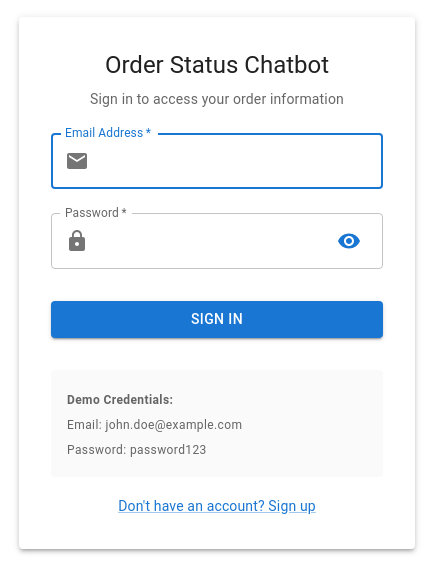
Test case: Login Component › shows loading state during login
The width and height of the screenshot is (435, 571).
Type "john.doe@example.com" into the field labelled "Email Address *" at [240, 161], box [97,133,383,189]
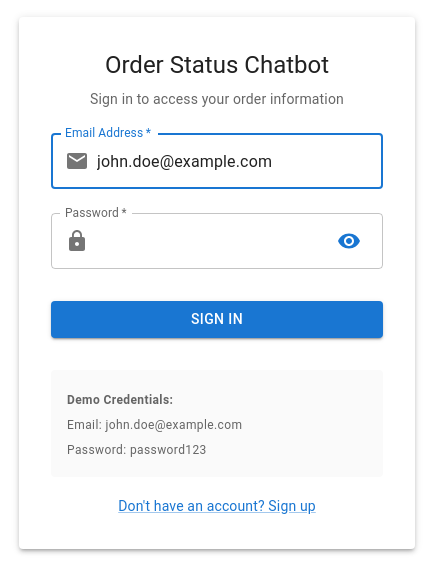
Type "password123" into the password field labelled "Password *" at [209, 241], box [97,213,321,269]
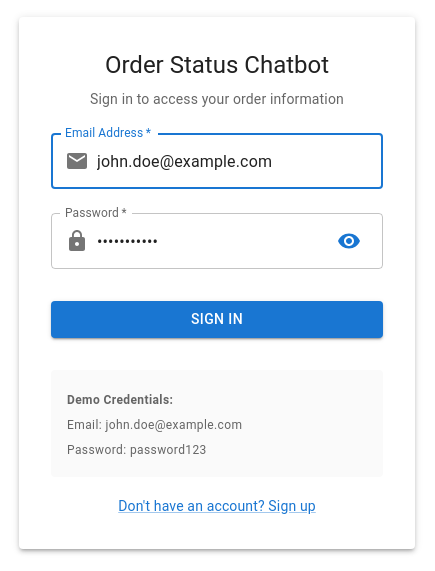
Click the button "Sign In" at [217, 320], box [51,301,383,338]
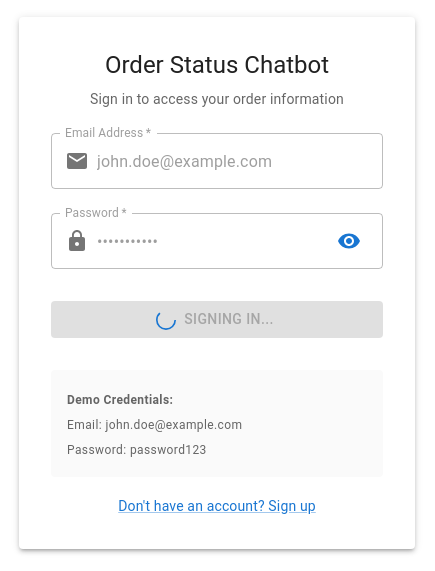
Result: the button "Signing In..." is disabled at [51,301,383,338]
